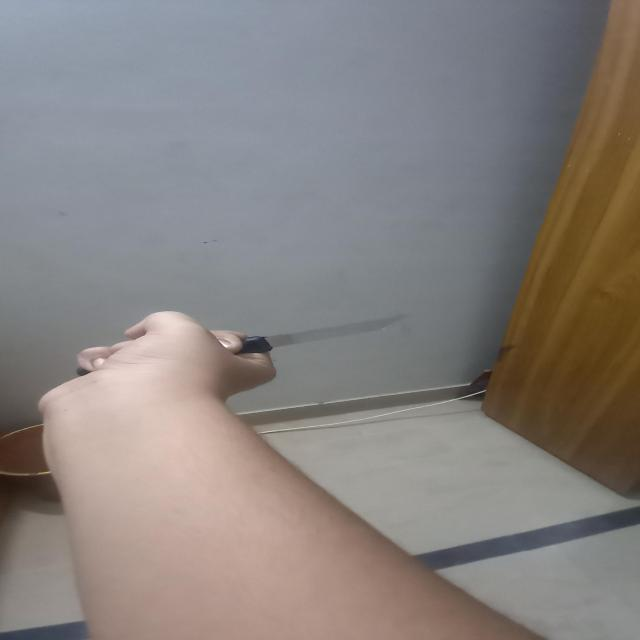Knife: (77, 313, 416, 379)
Person: (38, 313, 546, 640)
